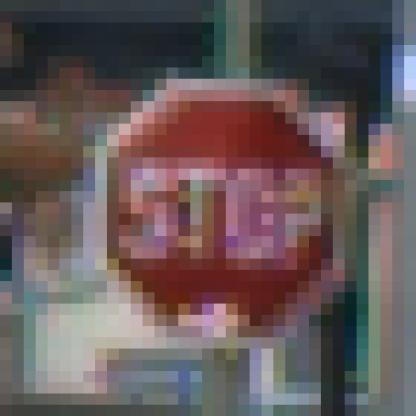Stop: (101, 87, 339, 331)
